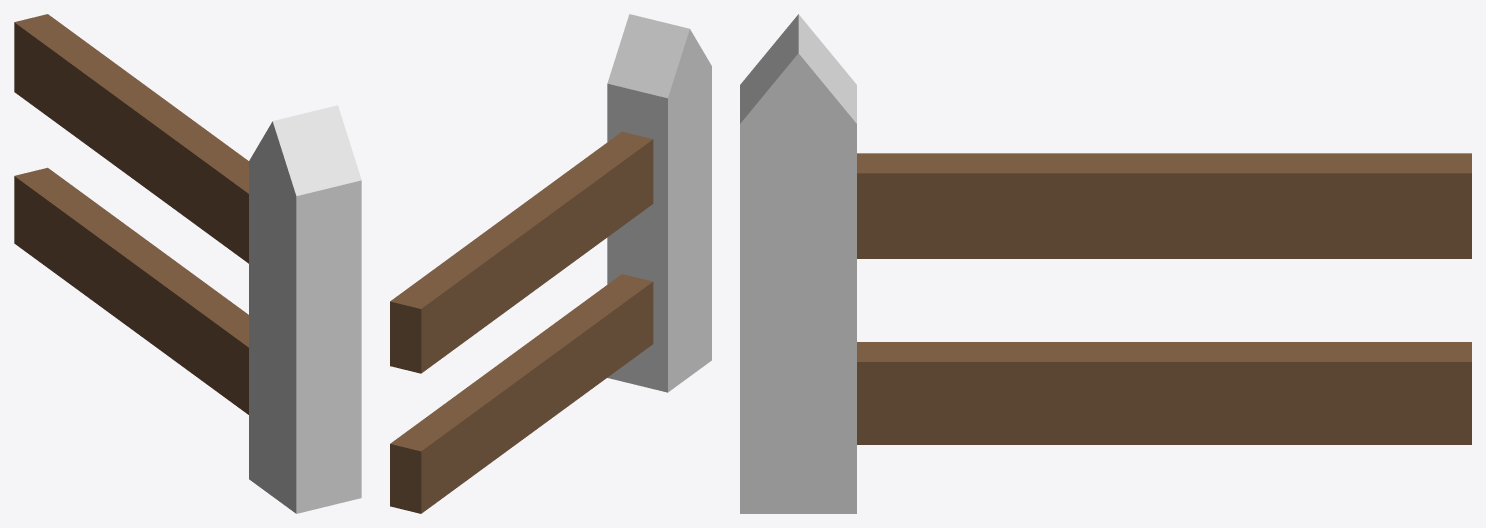
Rendered from SM_New_Long_Fence.fbx.
3 views of the same model, side by side, from view 1: azimuth 30°, elevation 25°; view 2: azimuth 150°, elevation 25°; view 3: azimuth 270°, elevation 25° (orthographic). The views are drawn at different scales.
Parts seen in each view (by area): view 1: New Long Fence; view 2: New Long Fence; view 3: New Long Fence.
Part boxes in pixels (left/top/right/bottom): New Long Fence: left=14, top=14, right=361, bottom=513; New Long Fence: left=390, top=14, right=711, bottom=513; New Long Fence: left=740, top=14, right=1471, bottom=513.
Size of the model in its own units: 16.41 by 90.06 by 130.
